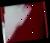dent: (0, 0, 48, 43)
